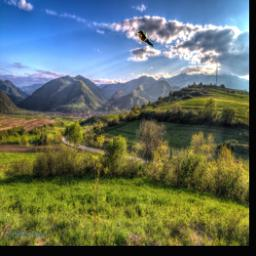Swallow: (136, 31, 154, 48)
